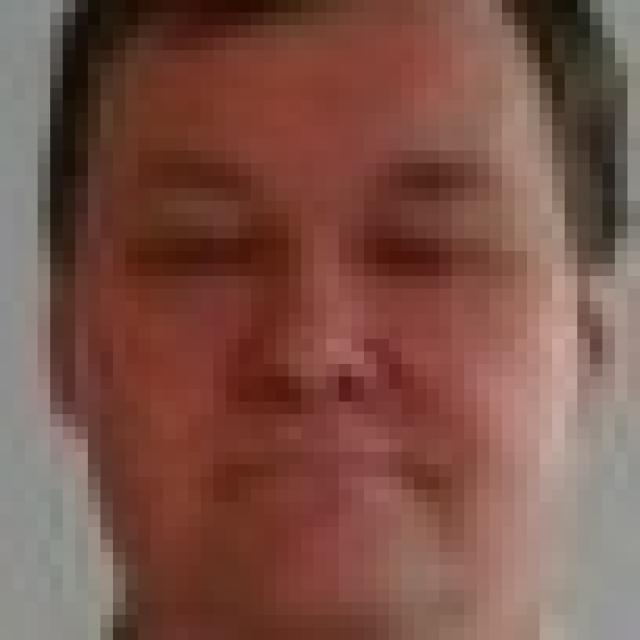Eyeclosed: (124, 217, 248, 284), (368, 221, 475, 286)
